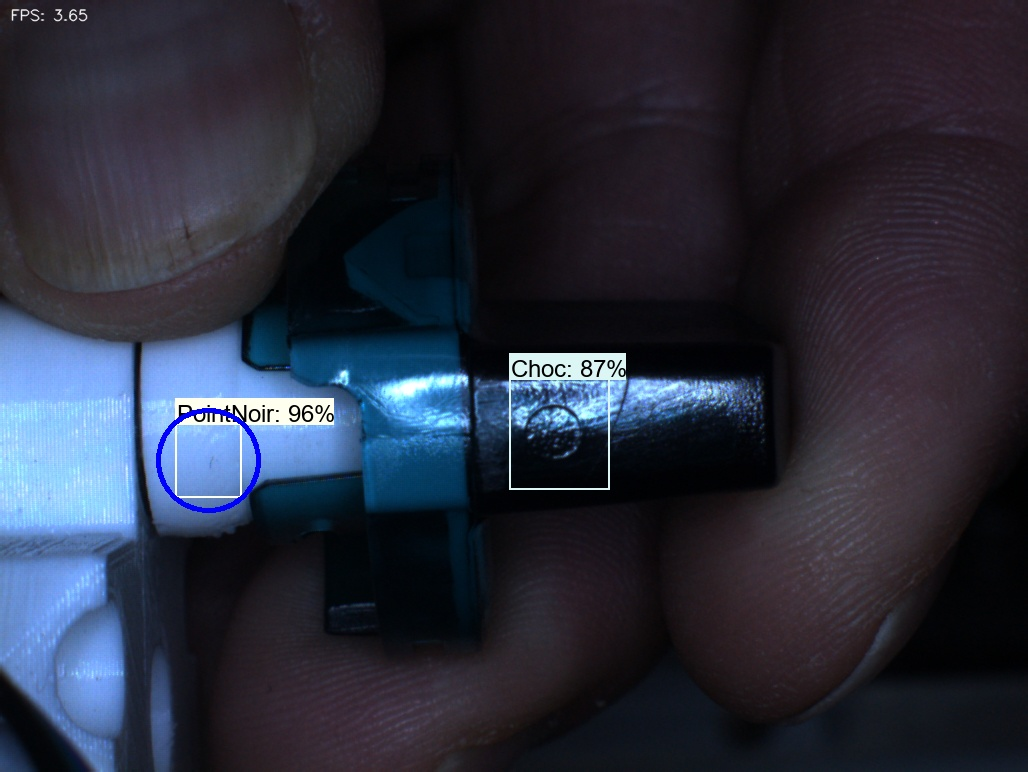DentOk: (314, 215, 386, 317)
